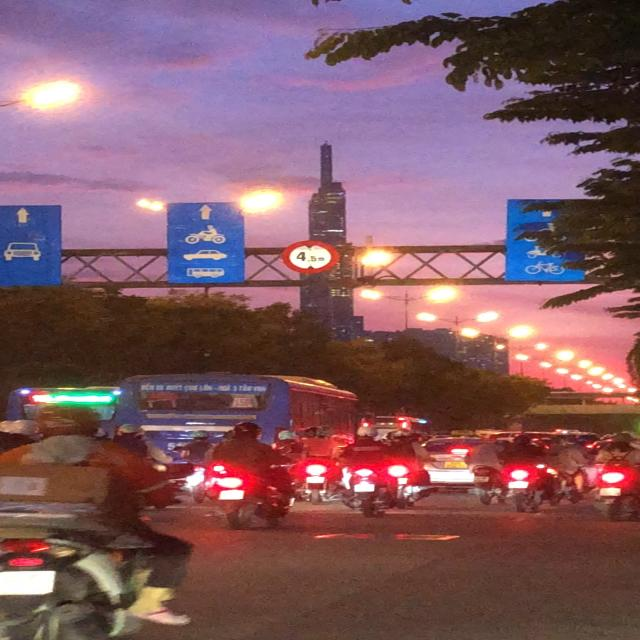Bien bao han che chieu cao: (276, 238, 345, 275)
